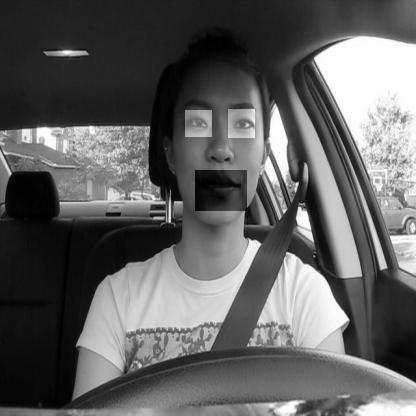seatbelt: (155, 27, 280, 350)
